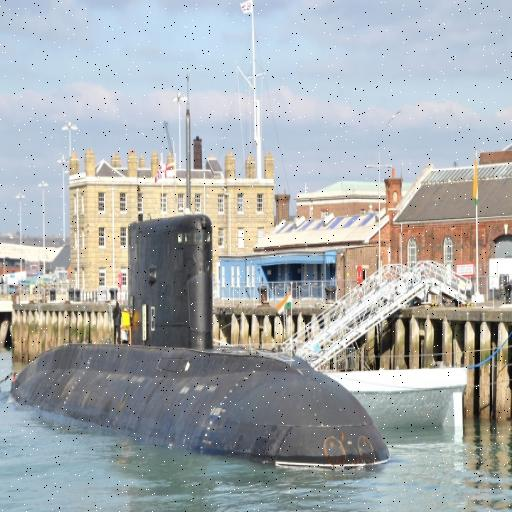submarine: (3, 215, 397, 460)
